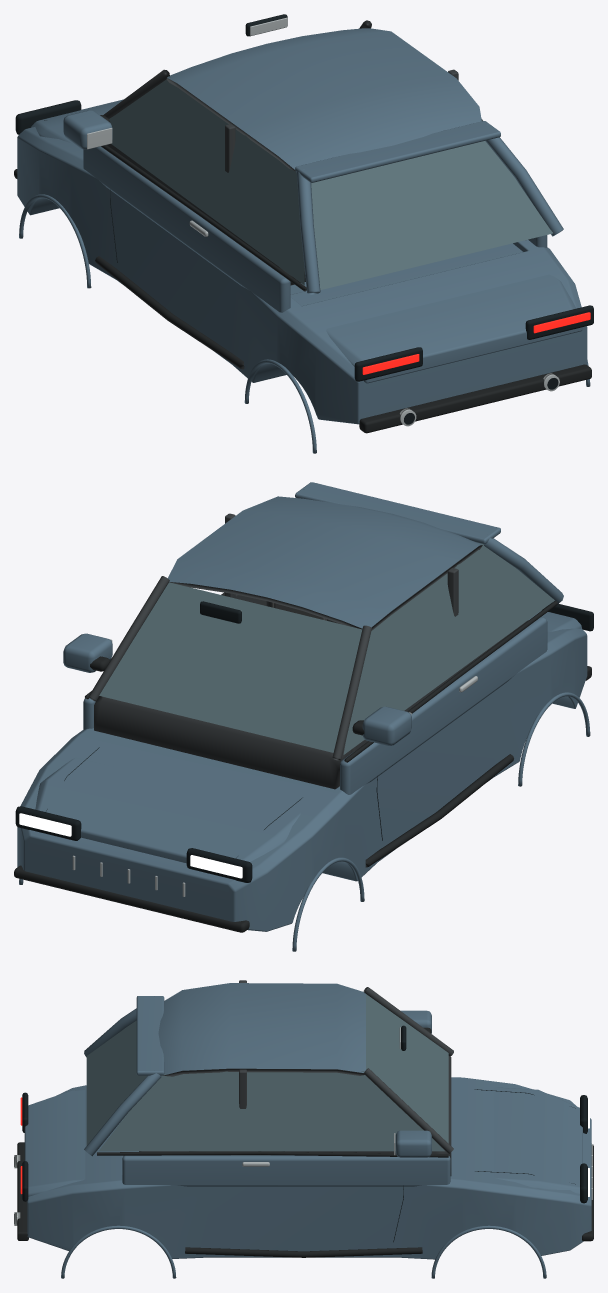
File: aster_cabin.glb
The picture shows the model from 3 angles, top to bottom: view 1: azimuth 30°, elevation 25°; view 2: azimuth 150°, elevation 25°; view 3: azimuth 270°, elevation 25°; orthographic projection. The views are drawn at different scales.
Visible parts, largest first — view 1: BodyworkStatic_Paint, BodyworkStatic_Exterior_glass, BodyworkStatic_Rubber, BodyworkStatic_Piano_black, BodyworkStatic_Charcoal_leather, BodyworkStatic_Tail_lamp, BodyworkStatic_Brushed_aluminium; view 2: BodyworkStatic_Paint, BodyworkStatic_Exterior_glass, CockpitStatic_Charcoal_leather, BodyworkStatic_Rubber, BodyworkStatic_Charcoal_leather, BodyworkStatic_Piano_black, BodyworkStatic_Headlamp_lens; view 3: BodyworkStatic_Paint, BodyworkStatic_Exterior_glass, BodyworkStatic_Rubber, BodyworkStatic_Charcoal_leather, BodyworkStatic_Piano_black, CockpitStatic_Charcoal_leather, BodyworkStatic_Brushed_aluminium.
Part boxes in pixels (x1=…): BodyworkStatic_Paint: x1=17, y1=28, x2=590, y2=453; BodyworkStatic_Exterior_glass: x1=109, y1=76, x2=552, y2=289; BodyworkStatic_Rubber: x1=14, y1=115, x2=591, y2=433; BodyworkStatic_Piano_black: x1=15, y1=100, x2=593, y2=424; BodyworkStatic_Charcoal_leather: x1=103, y1=20, x2=458, y2=172; BodyworkStatic_Tail_lamp: x1=362, y1=312, x2=590, y2=374; BodyworkStatic_Brushed_aluminium: x1=87, y1=127, x2=559, y2=426; BodyworkStatic_Paint: x1=17, y1=482, x2=590, y2=951; BodyworkStatic_Exterior_glass: x1=99, y1=543, x2=554, y2=754; CockpitStatic_Charcoal_leather: x1=94, y1=594, x2=528, y2=789; BodyworkStatic_Rubber: x1=14, y1=592, x2=591, y2=932; BodyworkStatic_Charcoal_leather: x1=88, y1=513, x2=482, y2=760; BodyworkStatic_Piano_black: x1=15, y1=602, x2=593, y2=882; BodyworkStatic_Headlamp_lens: x1=19, y1=813, x2=242, y2=878; BodyworkStatic_Paint: x1=24, y1=983, x2=591, y2=1278; BodyworkStatic_Exterior_glass: x1=86, y1=994, x2=448, y2=1151; BodyworkStatic_Rubber: x1=17, y1=1027, x2=593, y2=1257; BodyworkStatic_Charcoal_leather: x1=163, y1=980, x2=453, y2=1153; BodyworkStatic_Piano_black: x1=14, y1=1089, x2=587, y2=1242; CockpitStatic_Charcoal_leather: x1=139, y1=1056, x2=451, y2=1175; BodyworkStatic_Brushed_aluminium: x1=14, y1=1133, x2=592, y2=1225.
Bounding box in the file's own units: 2.17 × 1.63 × 4.01.
